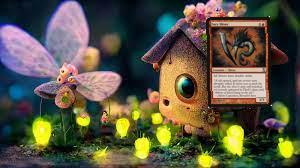mtgCard: (206, 16, 272, 108)
